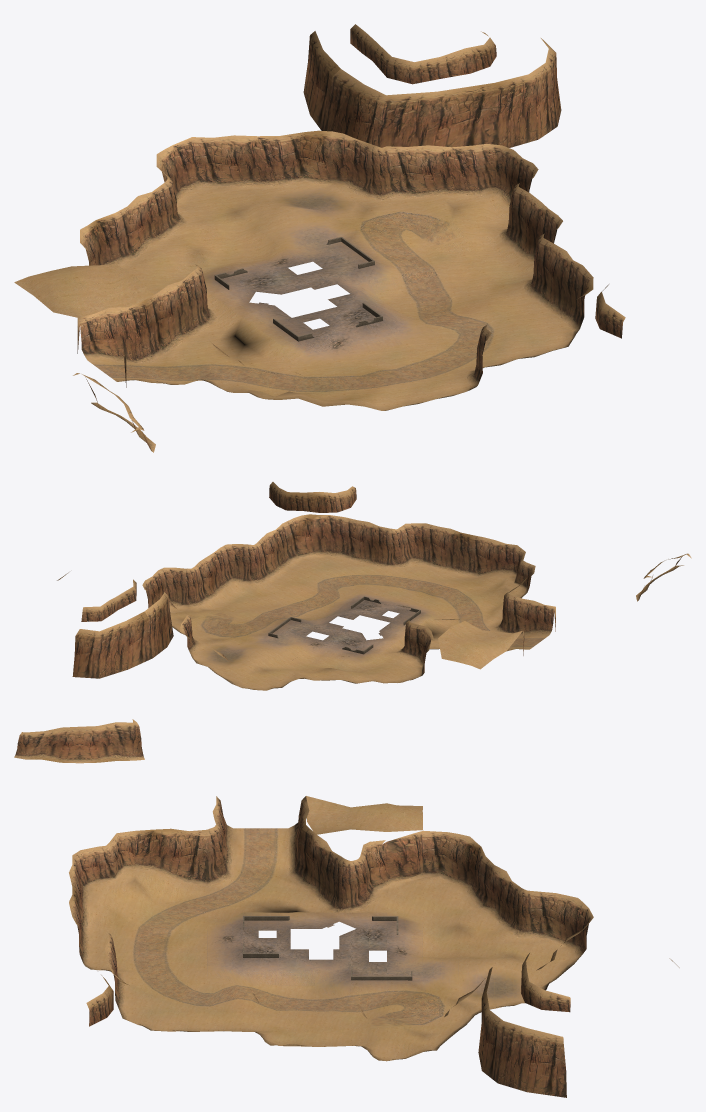
File: Mis1_Zone4.glb
3 views of the same model, one above another, from view 1: azimuth 30°, elevation 25°; view 2: azimuth 150°, elevation 25°; view 3: azimuth 270°, elevation 25° (orthographic). The views are drawn at different scales.
Parts seen in each view (by area): view 1: MIS1_ZONE4170, MIS1_ZONE4173, MIS1_ZONE4181, MIS1_ZONE4191, MIS1_ZONE4158, MIS1_ZONE4147, MIS1_ZONE4171, MIS1_ZONE4076, MIS1_ZONE4172, MIS1_ZONE4169, MIS1_ZONE4192, MIS1_ZONE4093 (+84 smaller); view 2: MIS1_ZONE4203, MIS1_ZONE4017, MIS1_ZONE4073, MIS1_ZONE4116, MIS1_ZONE4007, MIS1_ZONE4034, MIS1_ZONE4006, MIS1_ZONE4019, MIS1_ZONE4018, MIS1_ZONE4005, MIS1_ZONE4035, MIS1_ZONE4049 (+52 smaller); view 3: MIS1_ZONE4188, MIS1_ZONE4050, MIS1_ZONE4036, MIS1_ZONE4177, MIS1_ZONE4107, MIS1_ZONE4135, MIS1_ZONE4012, MIS1_ZONE4093, MIS1_ZONE4025, MIS1_ZONE4120, MIS1_ZONE4010, MIS1_ZONE4175 (+75 smaller).
Part boxes in pixels (<box>): MIS1_ZONE4170: <box>379,91,435,153</box>; MIS1_ZONE4173: <box>495,74,538,147</box>; MIS1_ZONE4181: <box>282,130,332,198</box>; MIS1_ZONE4191: <box>194,135,249,199</box>; MIS1_ZONE4158: <box>389,145,443,201</box>; MIS1_ZONE4147: <box>476,144,522,215</box>; MIS1_ZONE4171: <box>384,90,496,147</box>; MIS1_ZONE4076: <box>113,306,166,379</box>; MIS1_ZONE4172: <box>434,83,498,146</box>; MIS1_ZONE4169: <box>333,139,388,202</box>; MIS1_ZONE4192: <box>234,135,283,187</box>; MIS1_ZONE4093: <box>168,271,217,350</box>; MIS1_ZONE4203: <box>99,621,128,678</box>; MIS1_ZONE4017: <box>384,524,422,570</box>; MIS1_ZONE4073: <box>241,538,279,589</box>; MIS1_ZONE4116: <box>179,562,217,609</box>; MIS1_ZONE4007: <box>420,523,450,566</box>; MIS1_ZONE4034: <box>302,515,340,566</box>; MIS1_ZONE4006: <box>443,529,471,572</box>; MIS1_ZONE4019: <box>339,517,368,559</box>; MIS1_ZONE4018: <box>362,522,390,565</box>; MIS1_ZONE4005: <box>466,535,495,577</box>; MIS1_ZONE4035: <box>286,514,317,558</box>; MIS1_ZONE4049: <box>506,594,533,634</box>; MIS1_ZONE4188: <box>501,1027,566,1097</box>; MIS1_ZONE4050: <box>189,825,229,890</box>; MIS1_ZONE4036: <box>153,828,188,887</box>; MIS1_ZONE4177: <box>513,889,561,945</box>; MIS1_ZONE4107: <box>334,857,386,912</box>; MIS1_ZONE4135: <box>406,830,451,883</box>; MIS1_ZONE4012: <box>80,843,124,893</box>; MIS1_ZONE4093: <box>297,842,341,905</box>; MIS1_ZONE4025: <box>117,829,153,875</box>; MIS1_ZONE4120: <box>370,833,417,883</box>; MIS1_ZONE4010: <box>80,722,132,763</box>; MIS1_ZONE4175: <box>497,1021,528,1091</box>.
Size of the model in its own units: 169 by 26.34 by 151.
14 materials, 14 textured.
